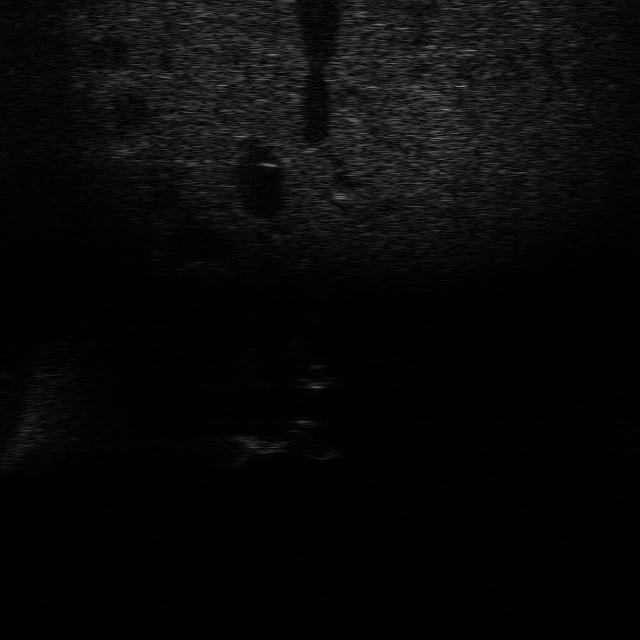ball: (291, 362, 340, 392)
square cage: (216, 430, 296, 468)
tyre: (282, 414, 354, 463)
